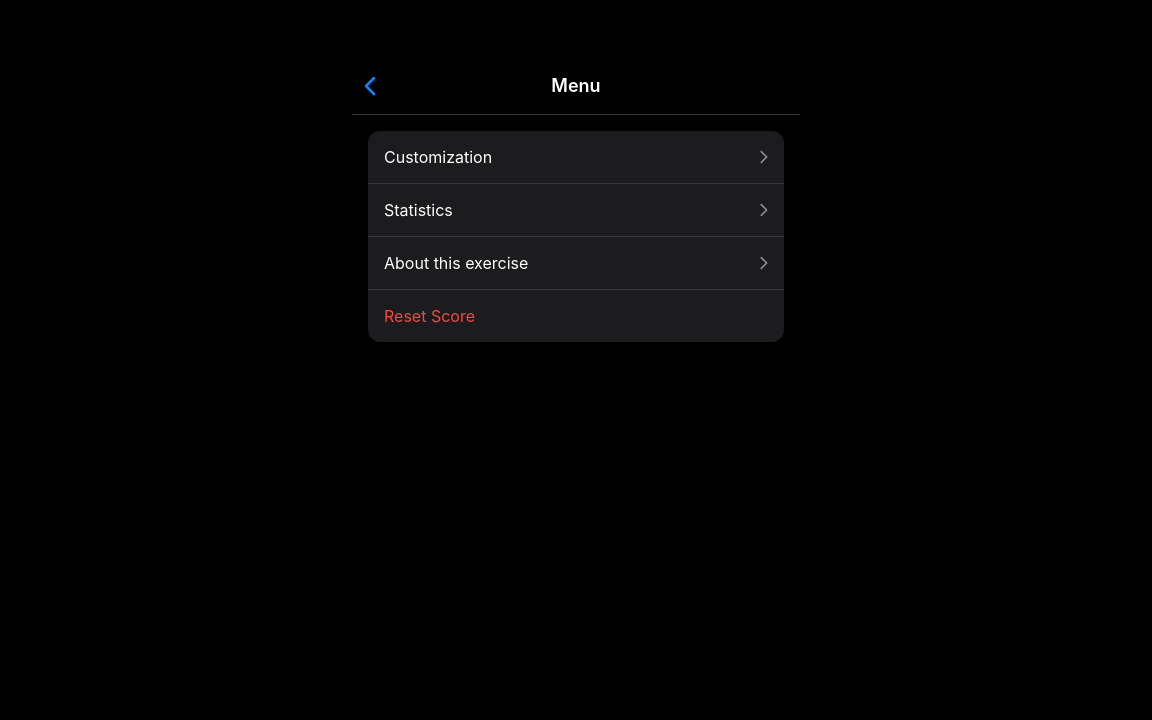
Scenario: customize screen › summarises each setting on its row
Click the button "Customization": x=438, y=157 [368,131,784,183]
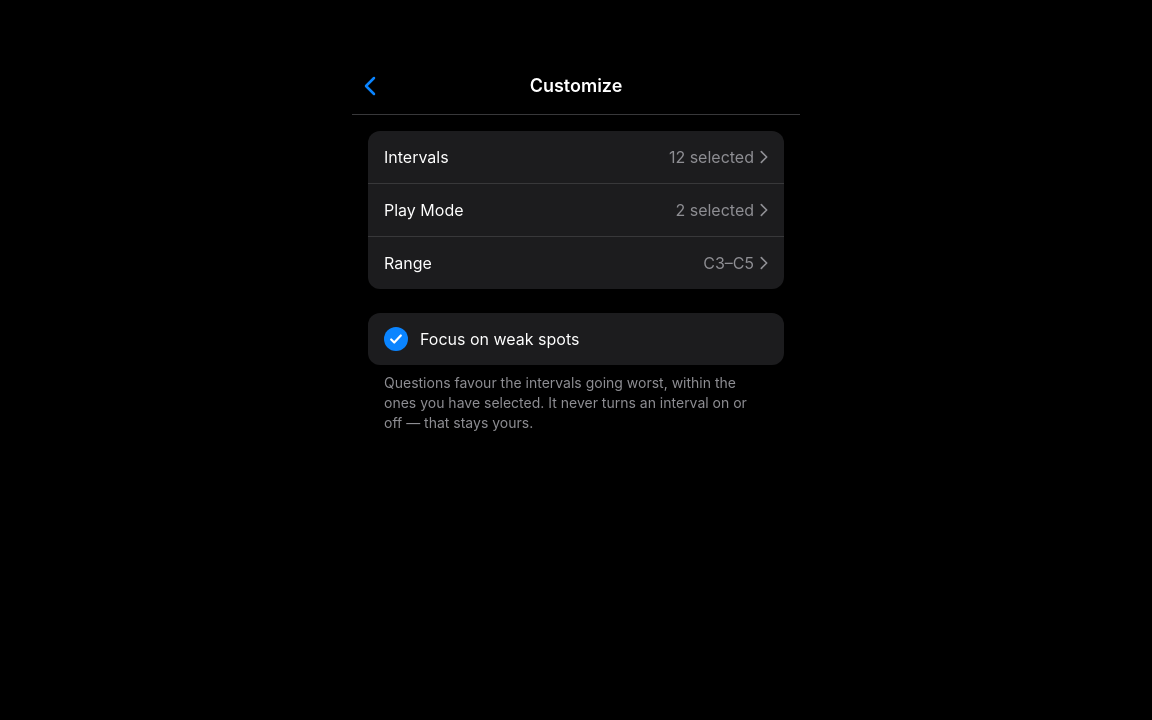
Expected: the button "Intervals 12 selected" is shown, [368,131,784,183]
Expected: the button "Play Mode 2 selected" is shown, [368,183,784,236]
Expected: the button "Range C3–C5" is shown, [368,236,784,289]
